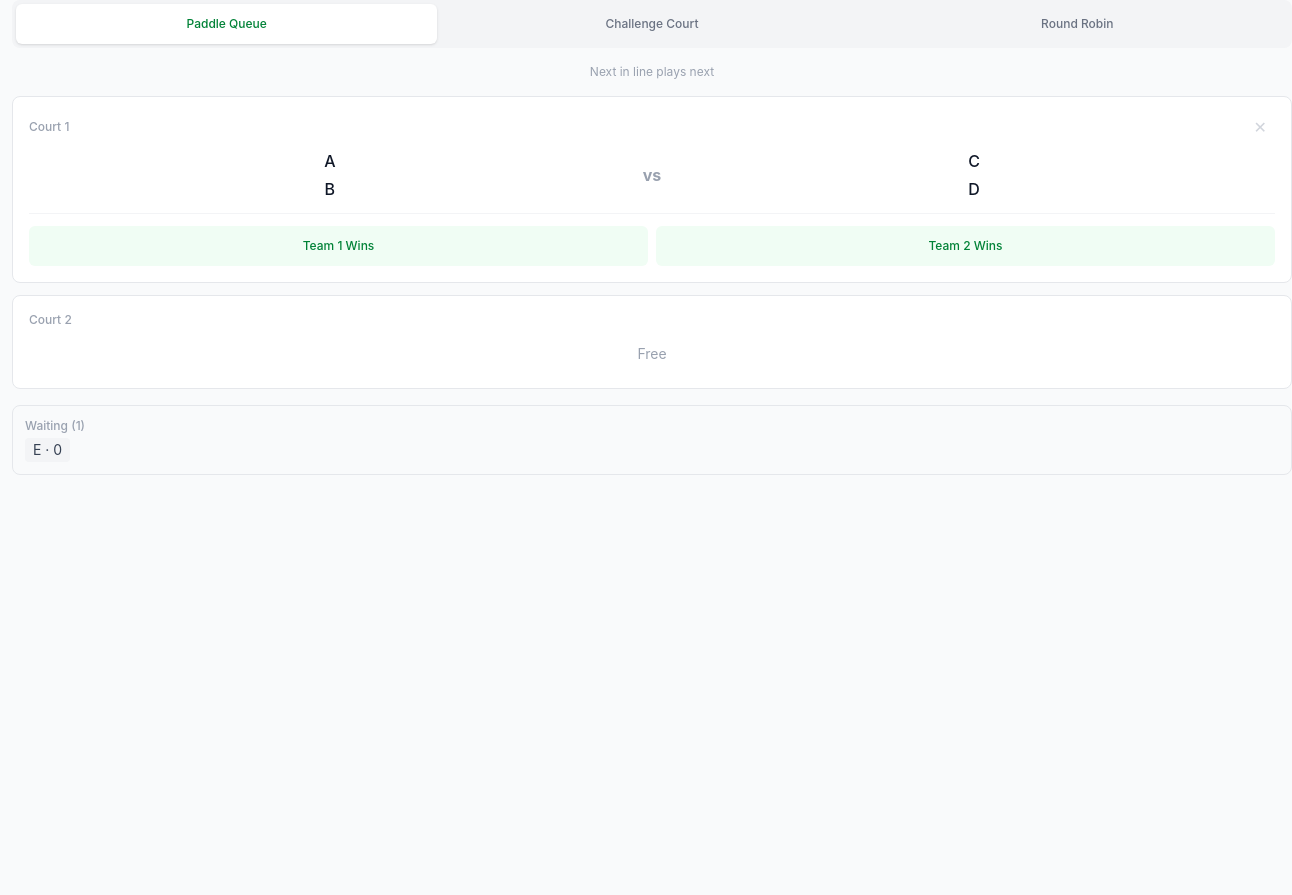
Test: MatchupsTab courts › shows teams and win buttons on a live court; a win frees the court
Expected: the text "A" is shown, [324,151,336,171]
Click the button "Team 1 Wins". click: point(338, 246)
box: [29,226,648,266]
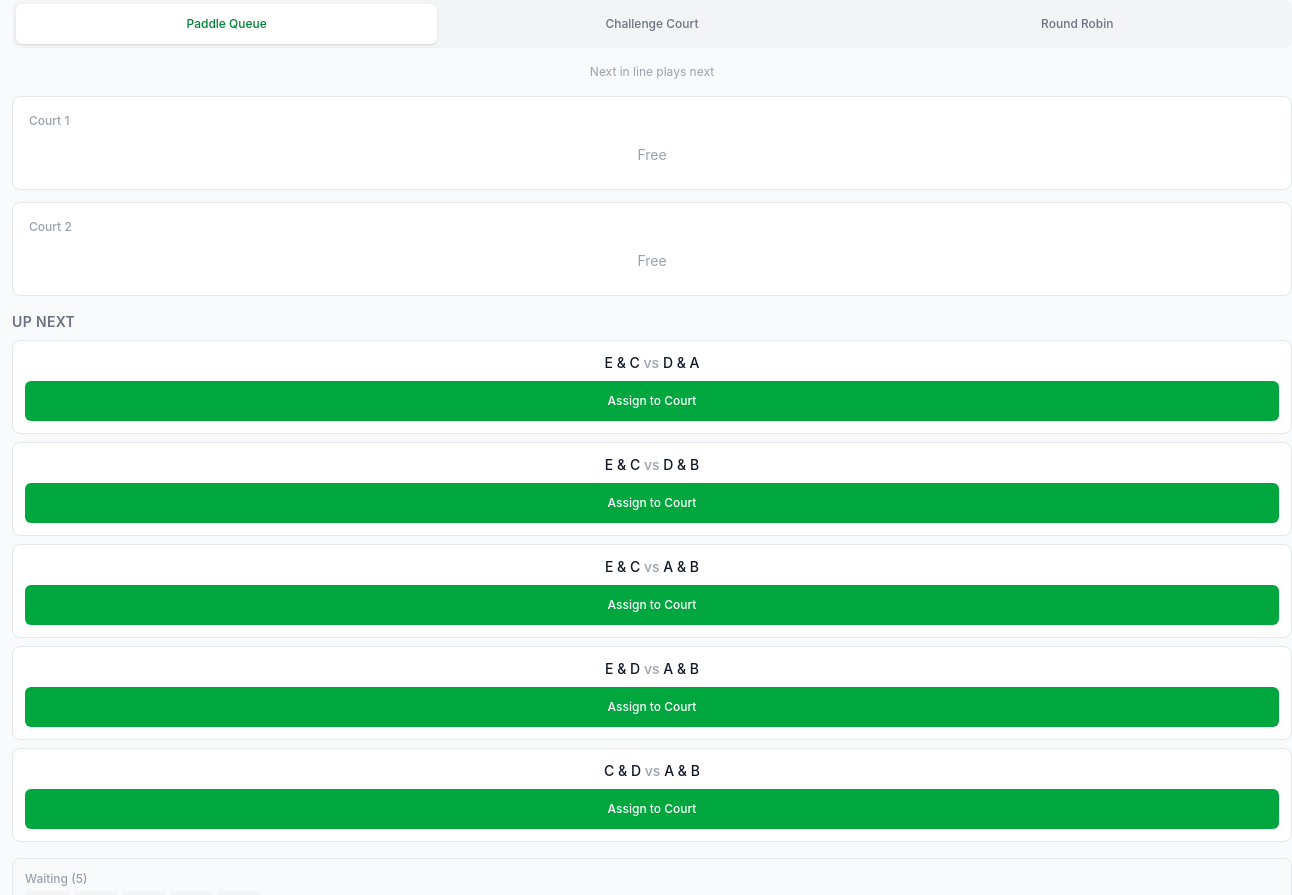
Expected: the 1st text "Free" is shown, [637,146,667,163]
